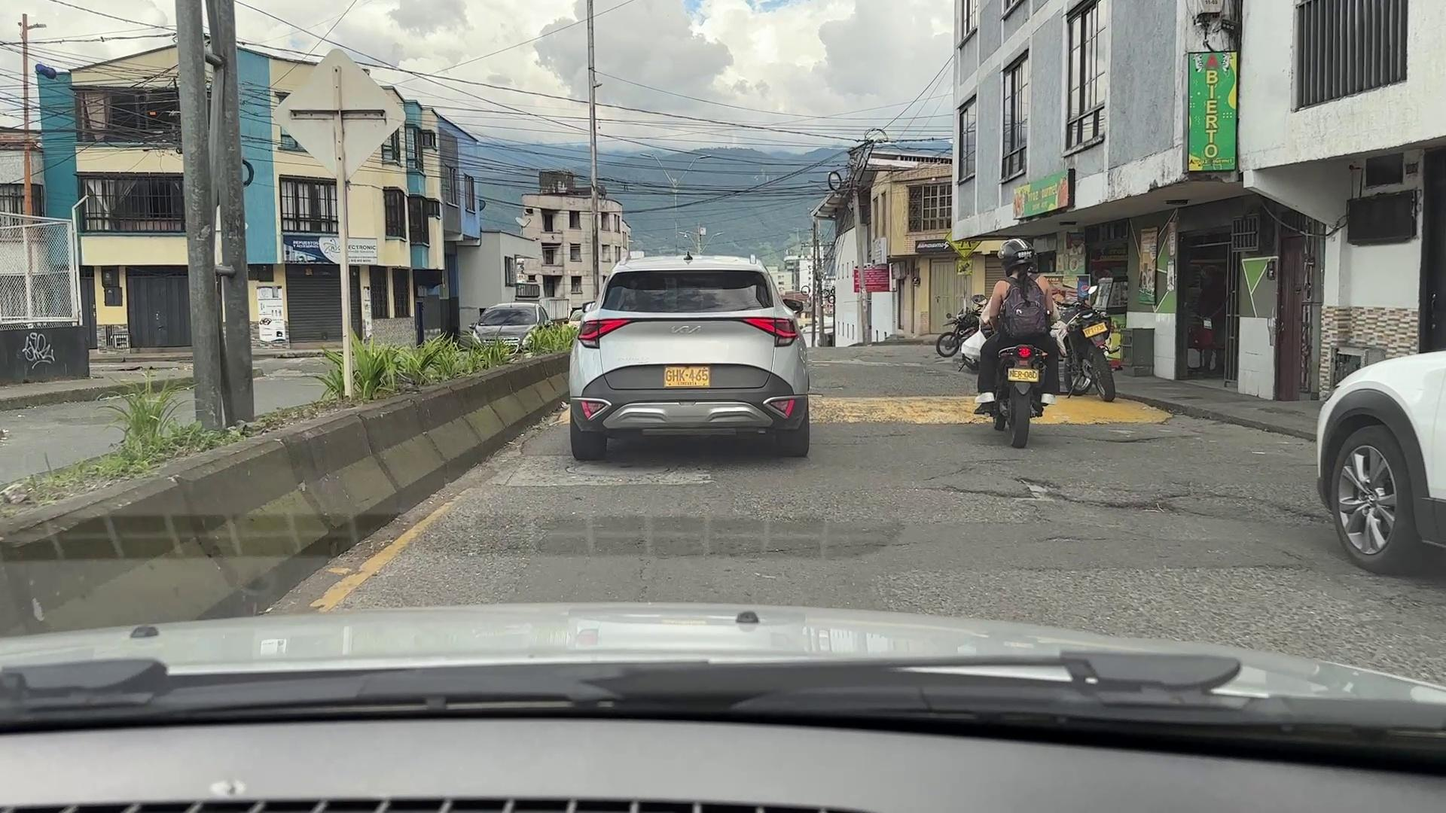bache: (944, 477, 1189, 515), (1087, 436, 1176, 444)
registro: (567, 461, 669, 477)
